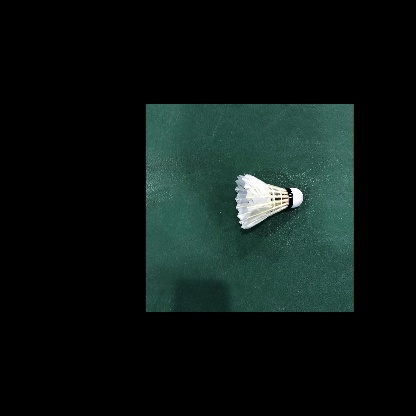ball_single: (235, 174, 303, 229)
